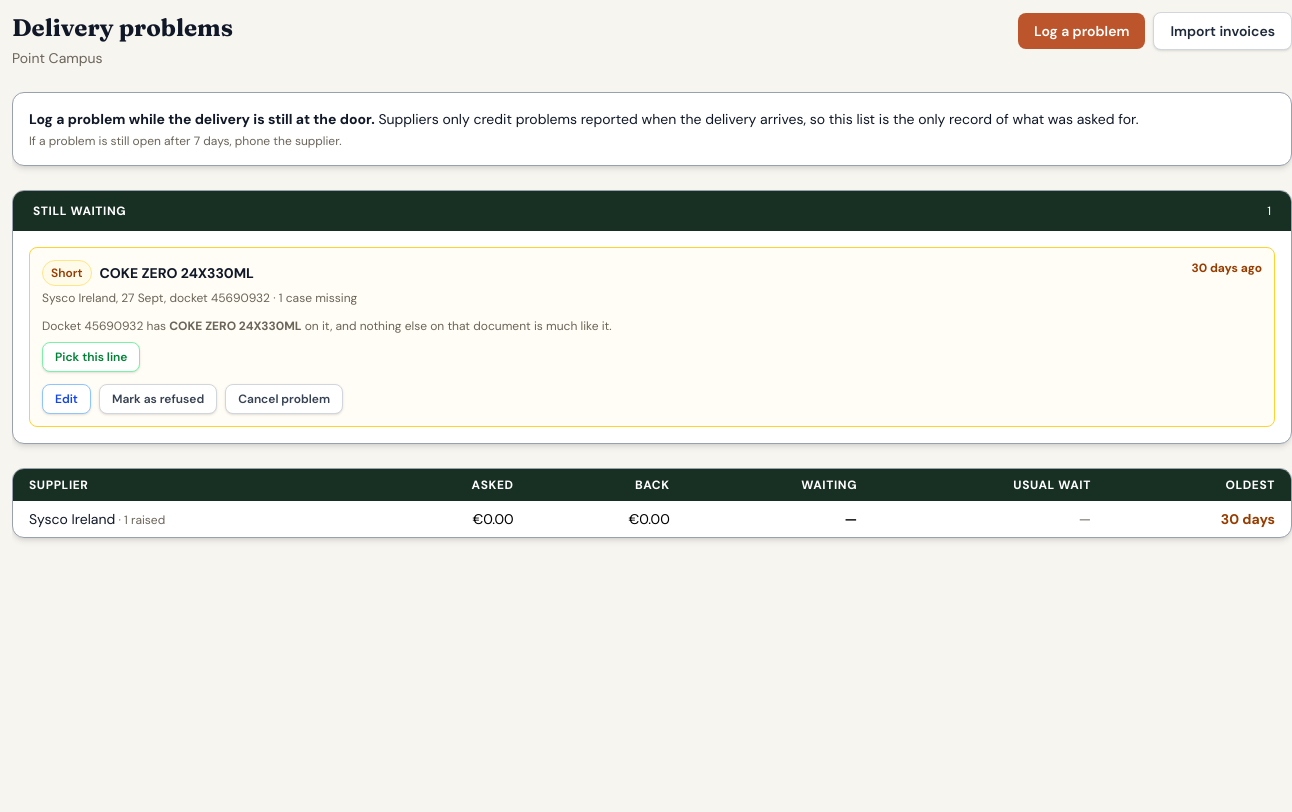
asking before a claim goes on a line › shows the working, the invoice and the week, and writes nothing until it is said yes
Click the button "Pick this line".
click(91, 357)  # box top-left (42, 342), bottom-right (140, 372)
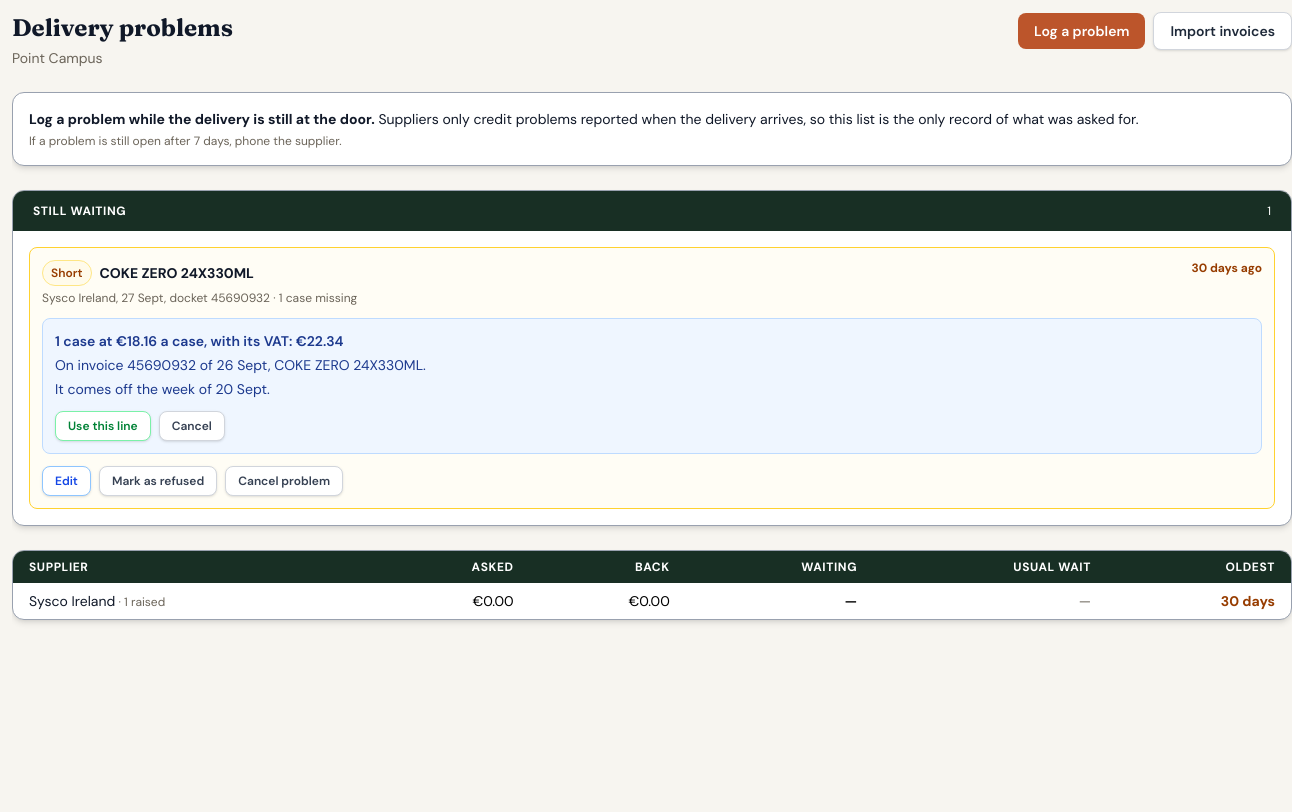
Result: the text "1 case at €18.16 a case, with its VAT: €22.34" is shown at top-left (55, 332), bottom-right (344, 350)
Click the button "Cancel".
click(192, 426)  # box top-left (159, 411), bottom-right (225, 441)
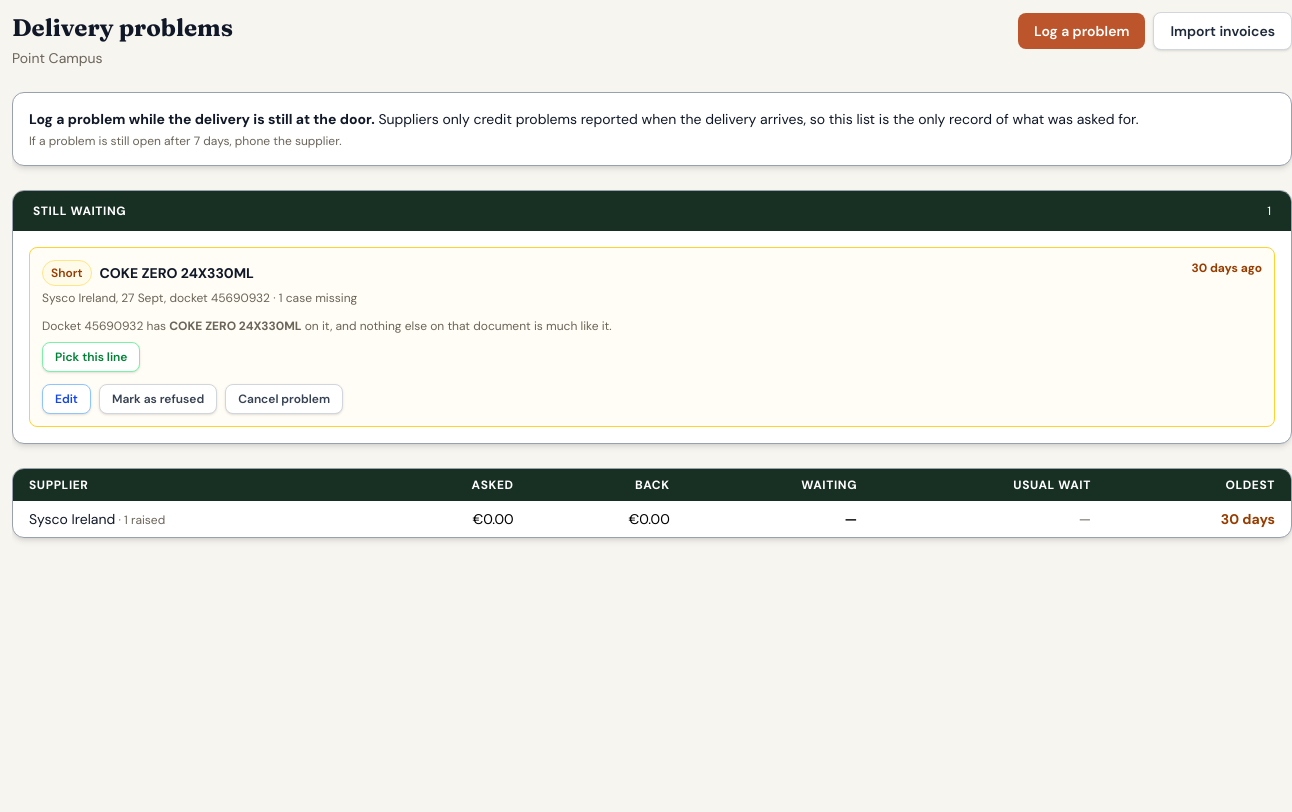
Result: the button "Use this line" is gone
